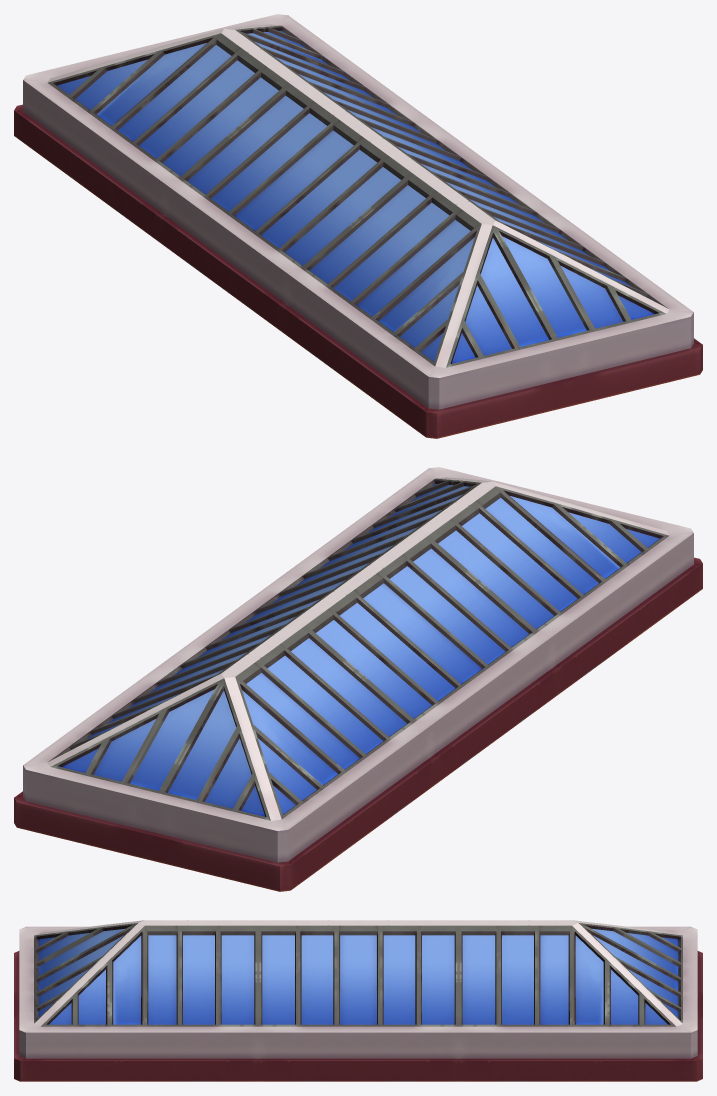
The model's file is Obstacle_SunRoof_3L_Blocker.FBX.
The picture shows the model from 3 angles, top to bottom: view 1: azimuth 30°, elevation 25°; view 2: azimuth 150°, elevation 25°; view 3: azimuth 270°, elevation 25°; orthographic projection. The views are drawn at different scales.
Parts seen in each view (by area): view 1: Obstacle_SunRoof_3L_Blocker; view 2: Obstacle_SunRoof_3L_Blocker; view 3: Obstacle_SunRoof_3L_Blocker.
Boxes of the visible parts, x1,y1,x2,y2 form: Obstacle_SunRoof_3L_Blocker: (14, 14, 702, 438); Obstacle_SunRoof_3L_Blocker: (14, 467, 702, 891); Obstacle_SunRoof_3L_Blocker: (14, 920, 702, 1081).
Bounding box in the file's own units: 14.06 × 6.12 × 36.97.
